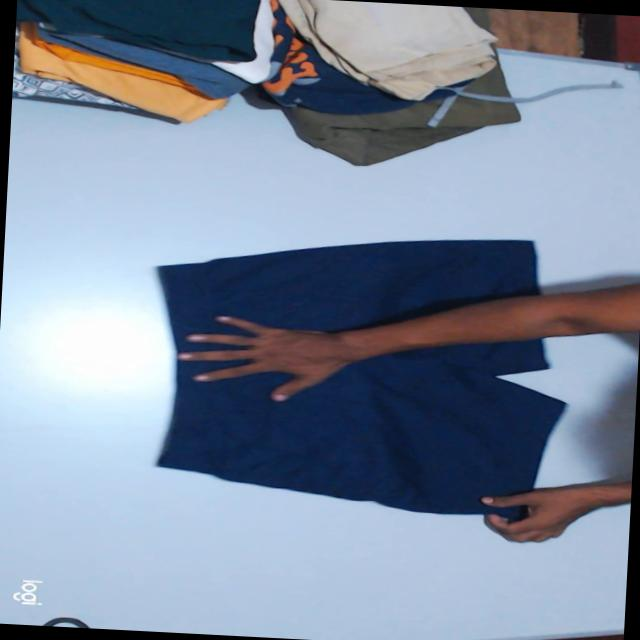new-garment: (157, 339, 565, 519), (158, 240, 538, 352)
